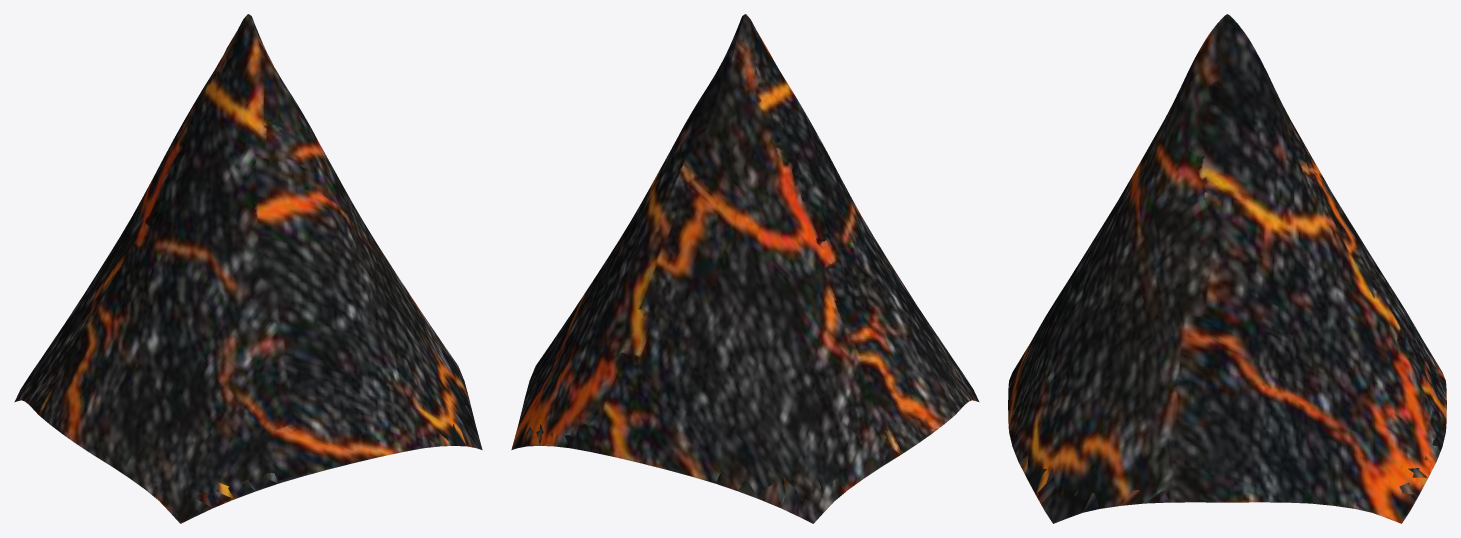
The model's file is rock2.fbx.
The picture shows the model from 3 angles, left to right: view 1: azimuth 30°, elevation 25°; view 2: azimuth 150°, elevation 25°; view 3: azimuth 270°, elevation 25°; orthographic projection. The views are drawn at different scales.
Visible parts, largest first — view 1: Cube; view 2: Cube; view 3: Cube.
Boxes of the visible parts, x1=… form: Cube: x1=14, y1=14, x2=482, y2=523; Cube: x1=511, y1=14, x2=979, y2=523; Cube: x1=1008, y1=14, x2=1446, y2=523.
Bounding box in the file's own units: 178 × 189 × 173.
1 material, 1 textured.
